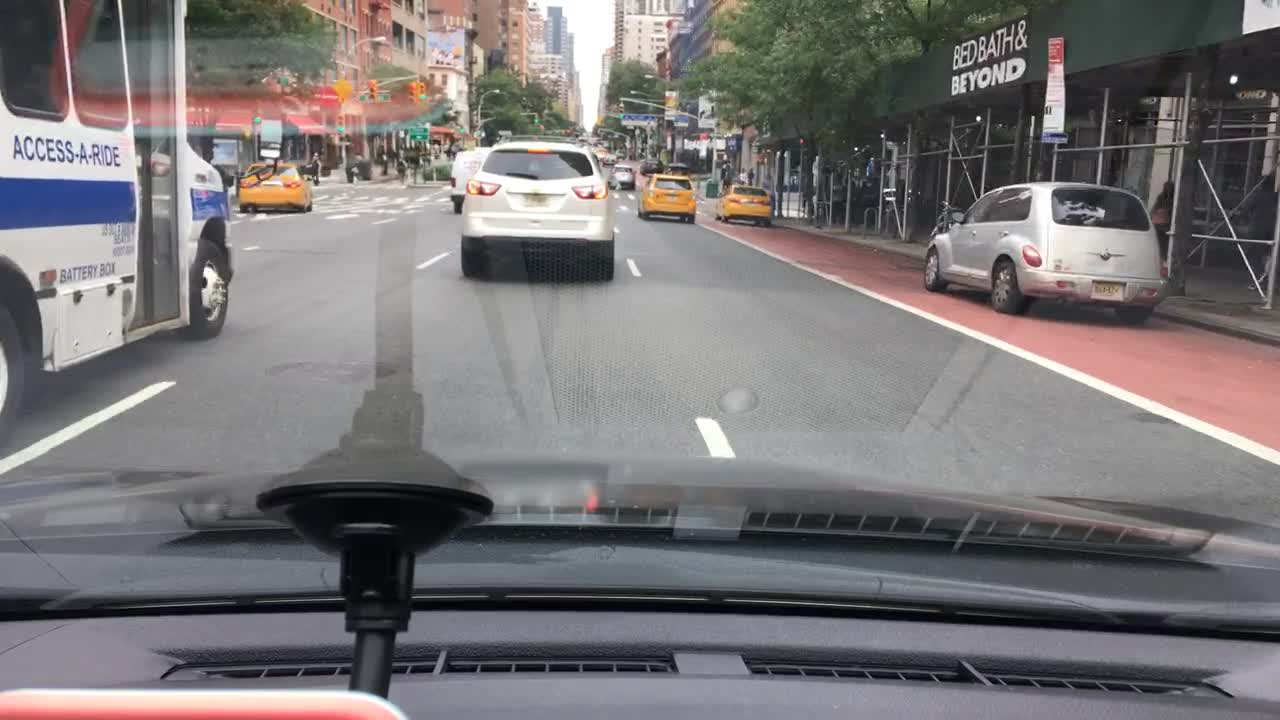car: (920, 180, 1166, 327), (456, 137, 615, 279), (239, 162, 310, 213), (639, 172, 694, 227), (446, 146, 487, 213), (716, 184, 773, 230), (608, 162, 634, 190)
person: (310, 151, 320, 182), (720, 162, 734, 184), (396, 154, 407, 180), (376, 151, 385, 171), (747, 167, 756, 181), (740, 167, 746, 180)
traffic light: (406, 79, 415, 104), (418, 81, 428, 101), (531, 112, 541, 127), (253, 112, 259, 133), (370, 79, 376, 99), (335, 114, 342, 131), (617, 102, 624, 118)
traffic sign: (624, 115, 658, 126), (409, 126, 428, 145), (671, 112, 691, 124), (700, 113, 716, 126)
truck: (1, 2, 288, 444)
